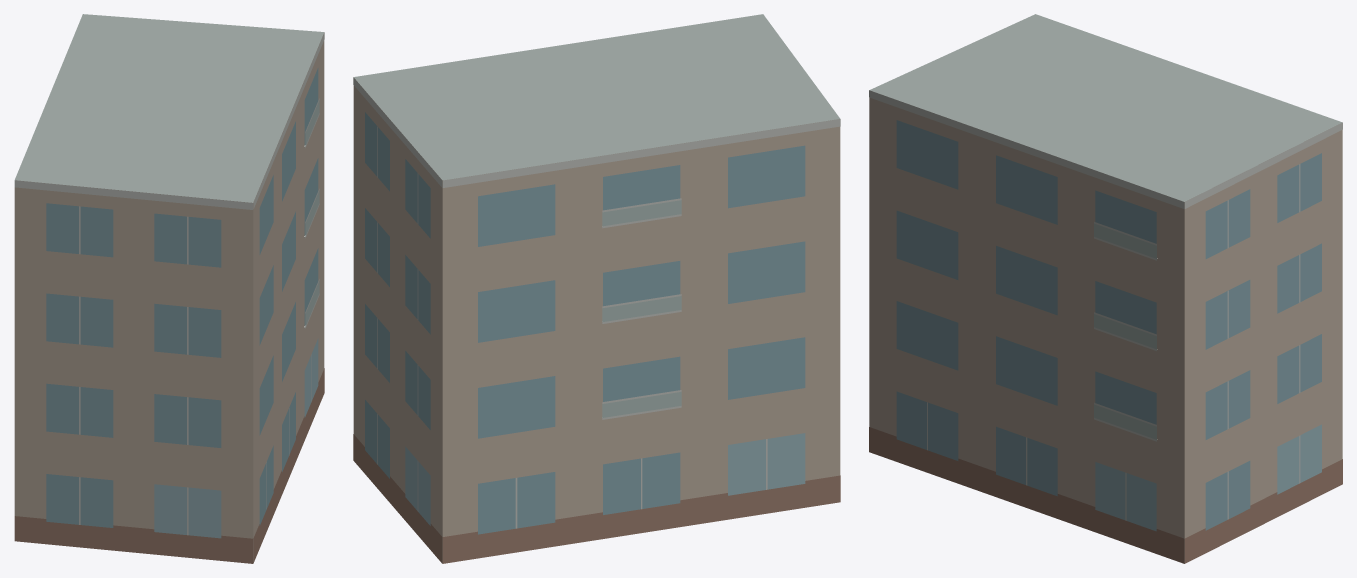
Rendered from survey-upis-32826589.glb.
3 renders of one model, left to right at view 1: azimuth 30°, elevation 25°; view 2: azimuth 150°, elevation 25°; view 3: azimuth 270°, elevation 25°, orthographic. The views are drawn at different scales.
Parts seen in each view (by area): view 1: survey-upis-32826589.tmp; view 2: survey-upis-32826589.tmp; view 3: survey-upis-32826589.tmp.
Part boxes in pixels (x1,y1,x2,y2): survey-upis-32826589.tmp: [14, 14, 324, 563]; survey-upis-32826589.tmp: [353, 14, 840, 563]; survey-upis-32826589.tmp: [869, 14, 1342, 563].
Bounding box in the file's own units: 13.6 × 12.2 × 14.47.
